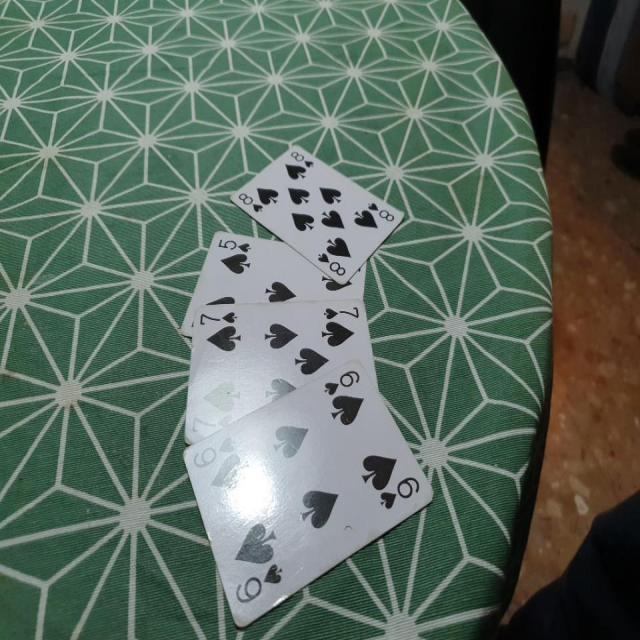5 Spades: (173, 228, 387, 348)
6 Spades: (168, 358, 438, 640)
7 Spades: (175, 304, 383, 469)
8 Spades: (229, 137, 412, 300)
